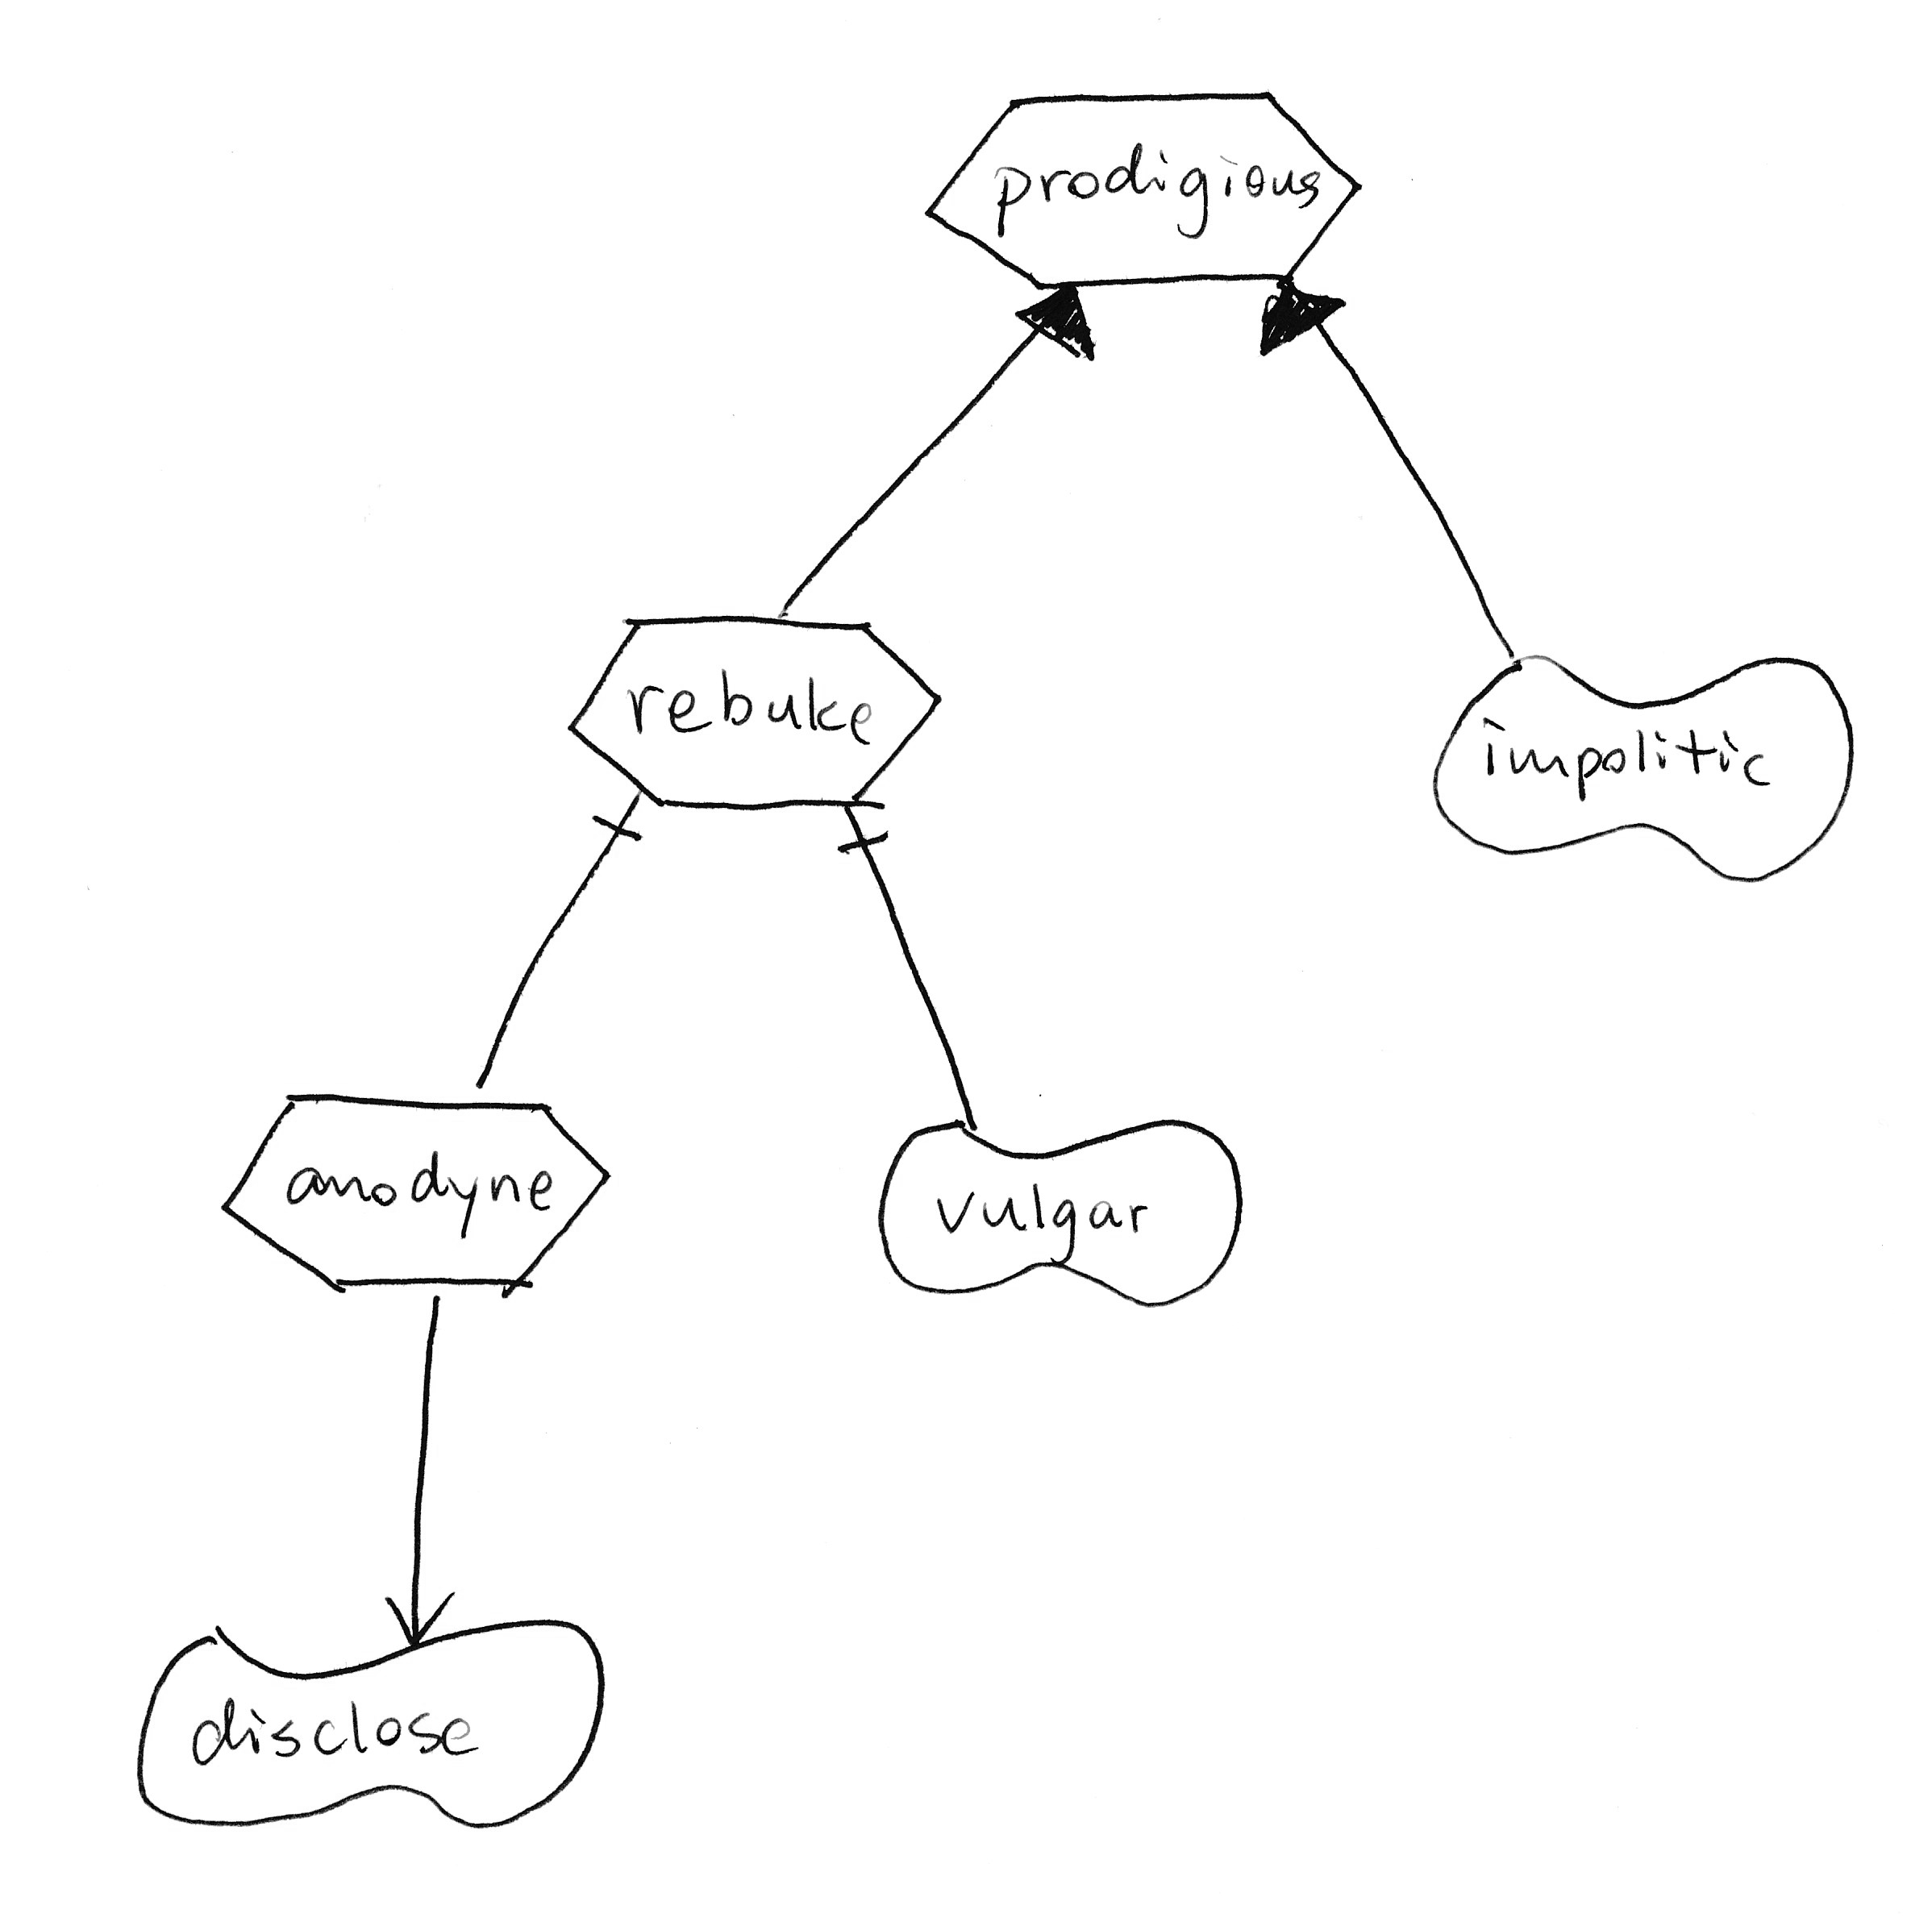and: (815, 783, 914, 875), (571, 778, 667, 862)
arrow: (361, 1575, 477, 1660)
or: (1236, 259, 1370, 375), (1000, 260, 1113, 370)
quality: (113, 1602, 625, 1852), (1414, 632, 1881, 899), (858, 1097, 1270, 1329)
task: (905, 67, 1381, 319), (190, 1063, 634, 1313), (549, 593, 955, 825)
